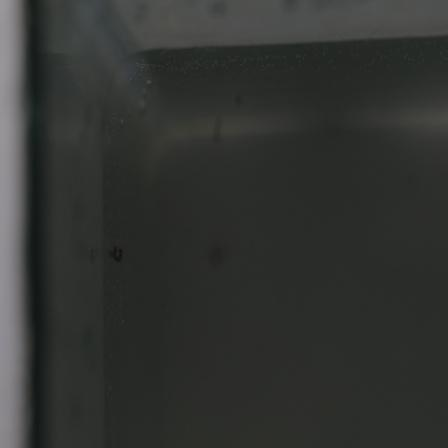Jentik-Nyamuk: (108, 238, 127, 269)
